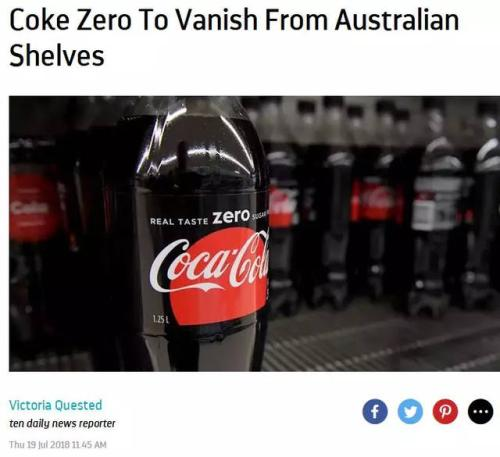coke_zero: (100, 95, 281, 372)
